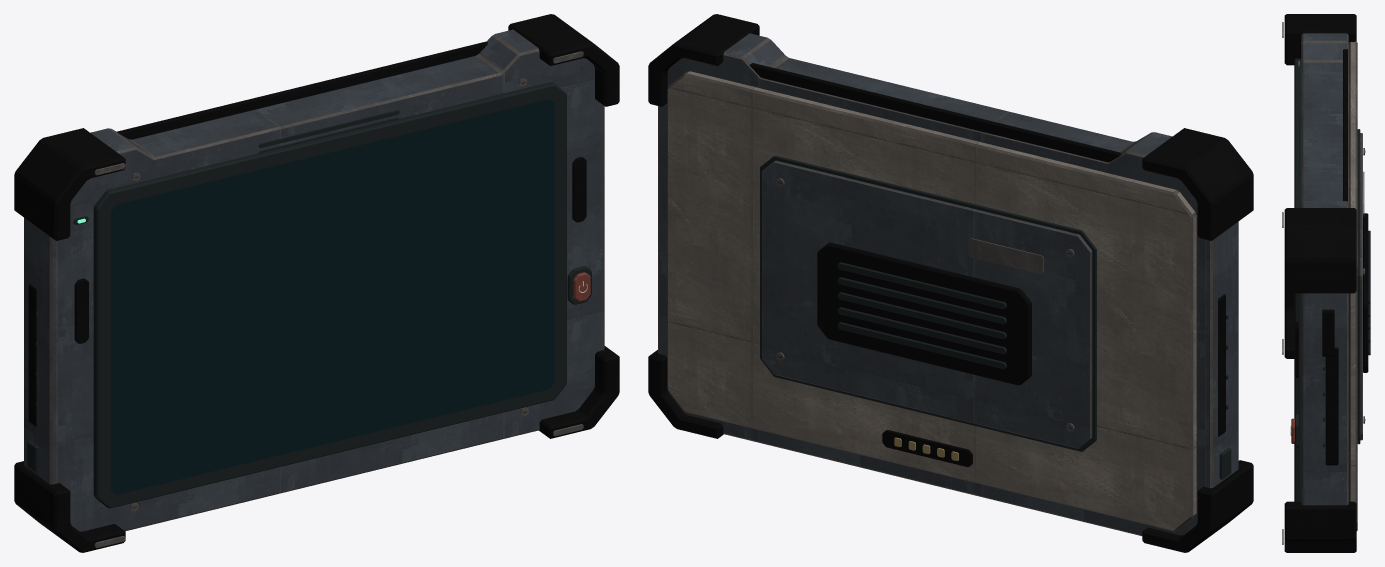
The model's file is HATAK_Rugged_Tablet.glb.
The picture shows the model from 3 angles, left to right: view 1: azimuth 30°, elevation 25°; view 2: azimuth 150°, elevation 25°; view 3: azimuth 270°, elevation 25°; orthographic projection. The views are drawn at different scales.
Parts seen in each view (by area): view 1: Tablet_Screen_Display, Tablet_Chassis, Tablet_Screen_Bezel, Tablet_Bumper_Upper_Left, Tablet_Perimeter_Seal, Tablet_Bumper_Lower_Left, Tablet_Bumper_Upper_Right, Tablet_Bumper_Lower_Right, Tablet_Left_Hand_Grip, Tablet_Right_Thumb_Pad, Tablet_Left_Thumb_Pad, Tablet_Speaker_Recess_2; view 2: Tablet_Back_Cover, Tablet_Rear_Service_Plate, Tablet_Chassis, Tablet_Rear_Grip_Pad, Tablet_Bumper_Upper_Left, Tablet_Perimeter_Seal, Tablet_Rear_Service_Seal, Tablet_Bumper_Lower_Left, Tablet_Bumper_Upper_Right, Tablet_Bumper_Lower_Right, Tablet_Rear_Blank_ID_Plate, Tablet_Dock_Connector_Seal (+6 smaller); view 3: Tablet_Chassis, Tablet_Bumper_Upper_Right, Tablet_Back_Cover, Tablet_Bumper_Lower_Right, Tablet_Screen_Bezel, Tablet_Bumper_Upper_Left, Tablet_Right_Hand_Grip, Tablet_Rear_Service_Seal, Tablet_Rear_Grip_Pad, Tablet_Rear_Service_Plate, Tablet_Perimeter_Seal, Tablet_Bumper_Lower_Left (+4 smaller).
Boxes of the visible parts, x1,y1,x2,y2 form: Tablet_Screen_Display: (111,99,554,494); Tablet_Chassis: (24,29,604,531); Tablet_Screen_Bezel: (93,82,566,508); Tablet_Bumper_Upper_Left: (14,128,125,240); Tablet_Perimeter_Seal: (117,41,487,139); Tablet_Bumper_Lower_Left: (14,461,125,552); Tablet_Bumper_Upper_Right: (508,14,619,106); Tablet_Bumper_Lower_Right: (538,346,619,438); Tablet_Left_Hand_Grip: (28,284,36,426); Tablet_Right_Thumb_Pad: (572,157,586,222); Tablet_Left_Thumb_Pad: (74,278,88,343); Tablet_Speaker_Recess_2: (258,110,399,147); Tablet_Back_Cover: (667,71,1196,531); Tablet_Rear_Service_Plate: (762,160,1092,448); Tablet_Chassis: (658,33,1238,535); Tablet_Rear_Grip_Pad: (817,242,1031,385); Tablet_Bumper_Upper_Left: (1142,128,1253,240); Tablet_Perimeter_Seal: (749,63,1121,162); Tablet_Rear_Service_Seal: (760,155,1096,451); Tablet_Bumper_Lower_Left: (1142,460,1253,552); Tablet_Bumper_Upper_Right: (648,14,759,106); Tablet_Bumper_Lower_Right: (648,350,723,438); Tablet_Rear_Blank_ID_Plate: (968,238,1043,273); Tablet_Dock_Connector_Seal: (882,430,972,466); Tablet_Chassis: (1301,33,1348,505); Tablet_Bumper_Upper_Right: (1284,208,1356,293); Tablet_Back_Cover: (1348,41,1357,530); Tablet_Bumper_Lower_Right: (1284,501,1356,552); Tablet_Screen_Bezel: (1294,58,1301,501); Tablet_Bumper_Upper_Left: (1284,14,1356,65); Tablet_Right_Hand_Grip: (1325,347,1338,465); Tablet_Rear_Service_Seal: (1357,129,1360,444); Tablet_Rear_Grip_Pad: (1363,213,1368,372); Tablet_Rear_Service_Plate: (1360,133,1362,440); Tablet_Perimeter_Seal: (1343,49,1347,201); Tablet_Bumper_Lower_Left: (1284,292,1294,358).
Size of the model in its own units: 0.3168 by 0.206 by 0.0504.
10 materials, 5 textured.
